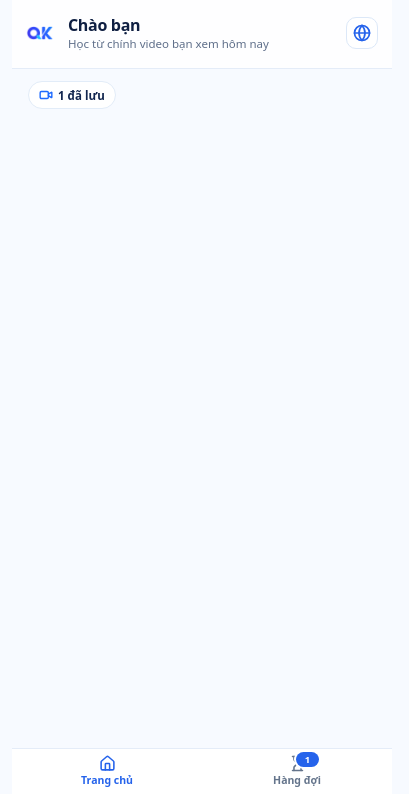
Test: App — popup lưu trang hiện tại + hàng đợi › (k) không còn nút/kết quả 'Đồng bộ' nào trong hàng đợi (sync nền spec/24)
Click the button with test id "tab-queue" at (297,772), box [202,749,392,793]
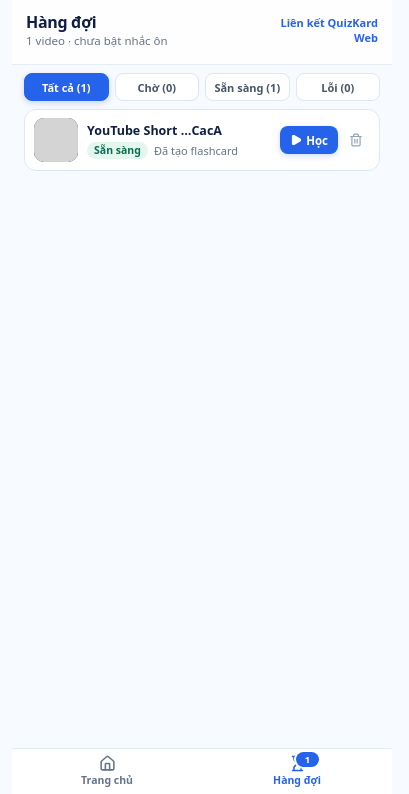
Check: the text "Sẵn sàng" is shown, box [87,142,148,158]
